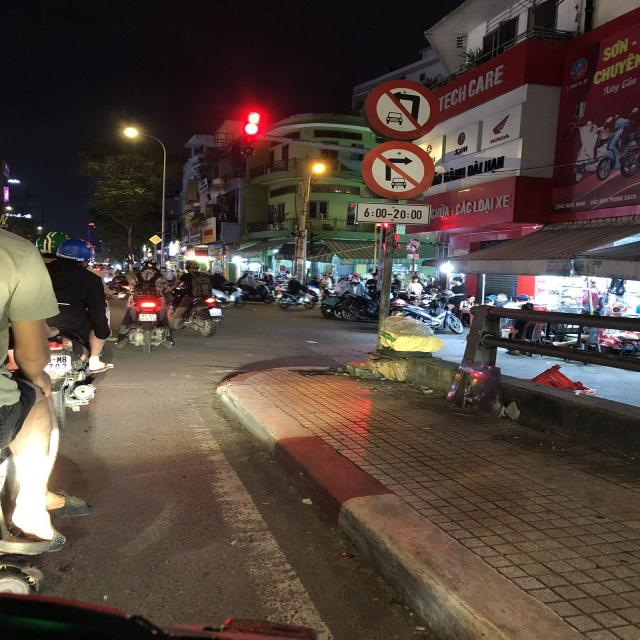Bien bao cam xe o to re phai: (354, 140, 440, 200)
Bien bao cam xe o to re trai: (366, 74, 440, 139)
